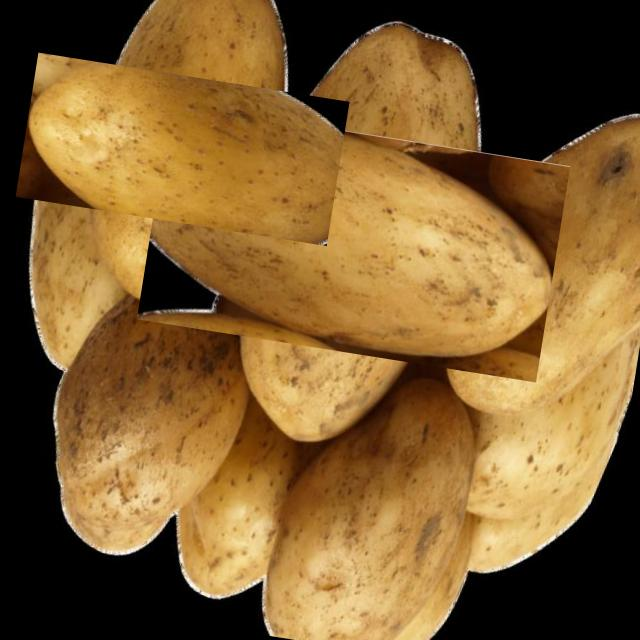potato: (175, 65, 532, 422), (49, 16, 314, 282)
